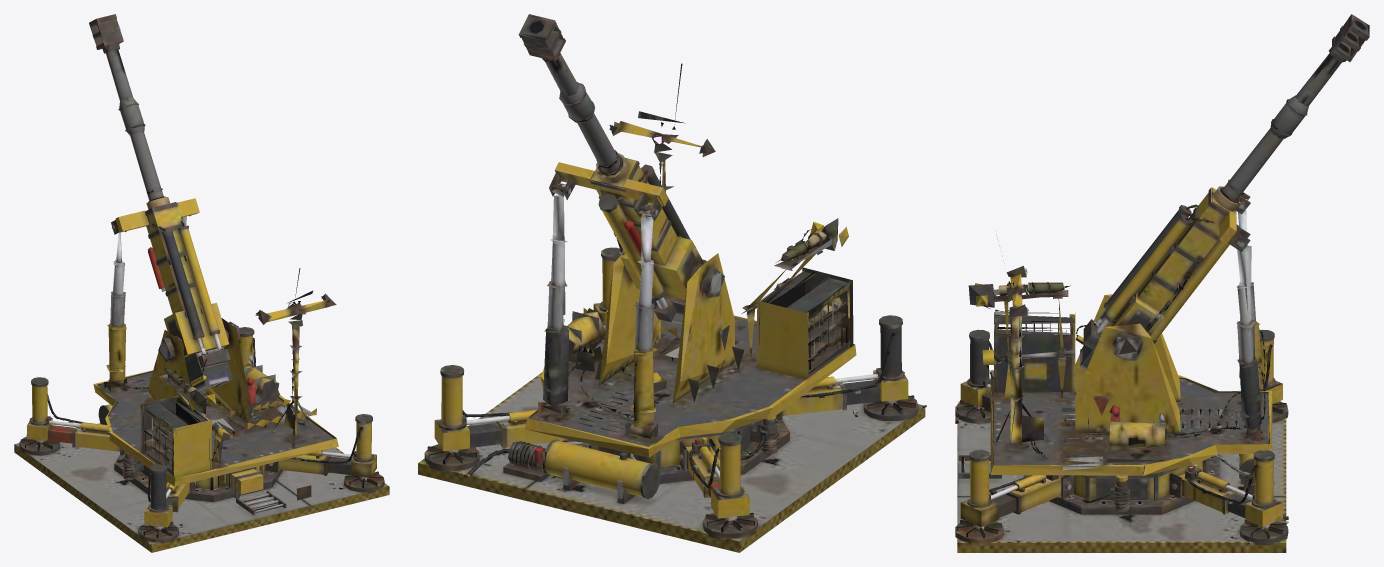
The model's file is artilharia.glb.
The picture shows the model from 3 angles, left to right: view 1: azimuth 30°, elevation 25°; view 2: azimuth 150°, elevation 25°; view 3: azimuth 270°, elevation 25°; orthographic projection. The views are drawn at different scales.
Visible parts, largest first — view 1: artilharia_base, artilharia_giro, artilharia_canhao; view 2: artilharia_giro, artilharia_base, artilharia_canhao; view 3: artilharia_giro, artilharia_base, artilharia_canhao.
Boxes of the visible parts, x1=… form: artilharia_base: x1=14, y1=327, x2=389, y2=552; artilharia_giro: x1=93, y1=216, x2=338, y2=486; artilharia_canhao: x1=89, y1=14, x2=232, y2=390; artilharia_giro: x1=525, y1=63, x2=856, y2=457; artilharia_base: x1=418, y1=247, x2=926, y2=552; artilharia_canhao: x1=518, y1=14, x2=706, y2=323; artilharia_giro: x1=968, y1=199, x2=1272, y2=475; artilharia_base: x1=955, y1=329, x2=1288, y2=552; artilharia_canhao: x1=1075, y1=14, x2=1369, y2=370.
Size of the model in its own units: 3 by 4.61 by 3.73.
3 materials, 1 textured.
